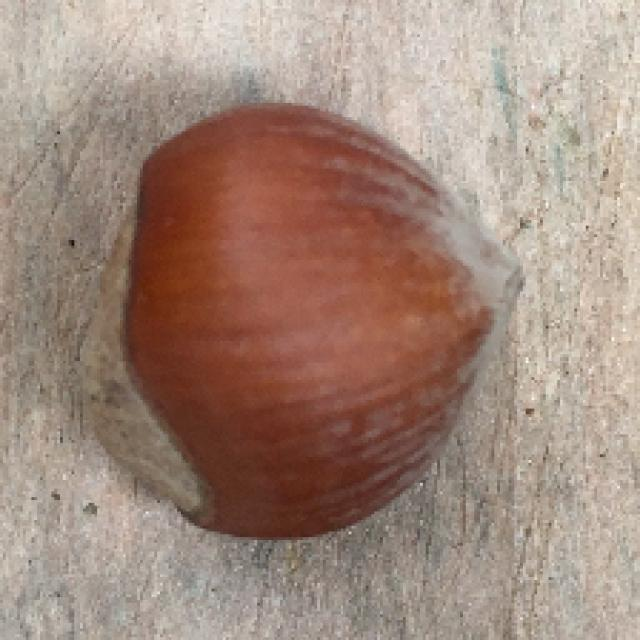qualityHazelnut: (70, 96, 528, 542)
